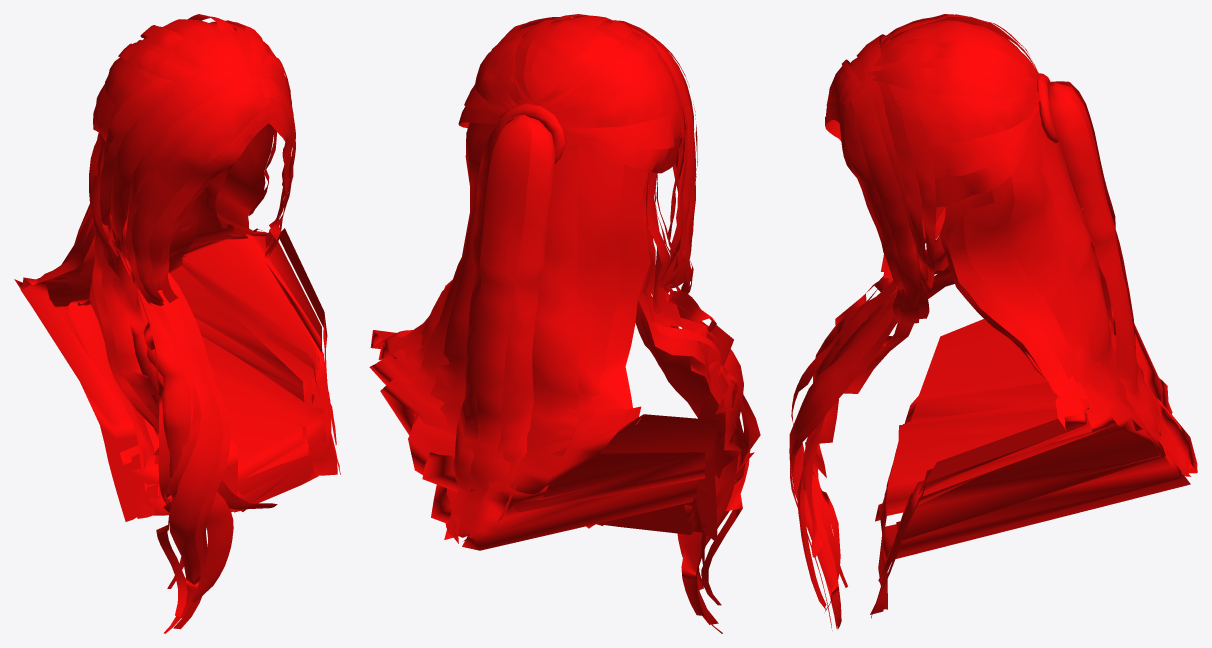
File: elvs_lady_hippy_hair_M.glb
3 views of the same model, side by side, from view 1: azimuth 30°, elevation 25°; view 2: azimuth 150°, elevation 25°; view 3: azimuth 270°, elevation 25° (orthographic). The views are drawn at different scales.
Bounding box in the file's own units: 0.329 × 0.6817 × 0.3893.
Materials: 1 (1 with a texture image).
